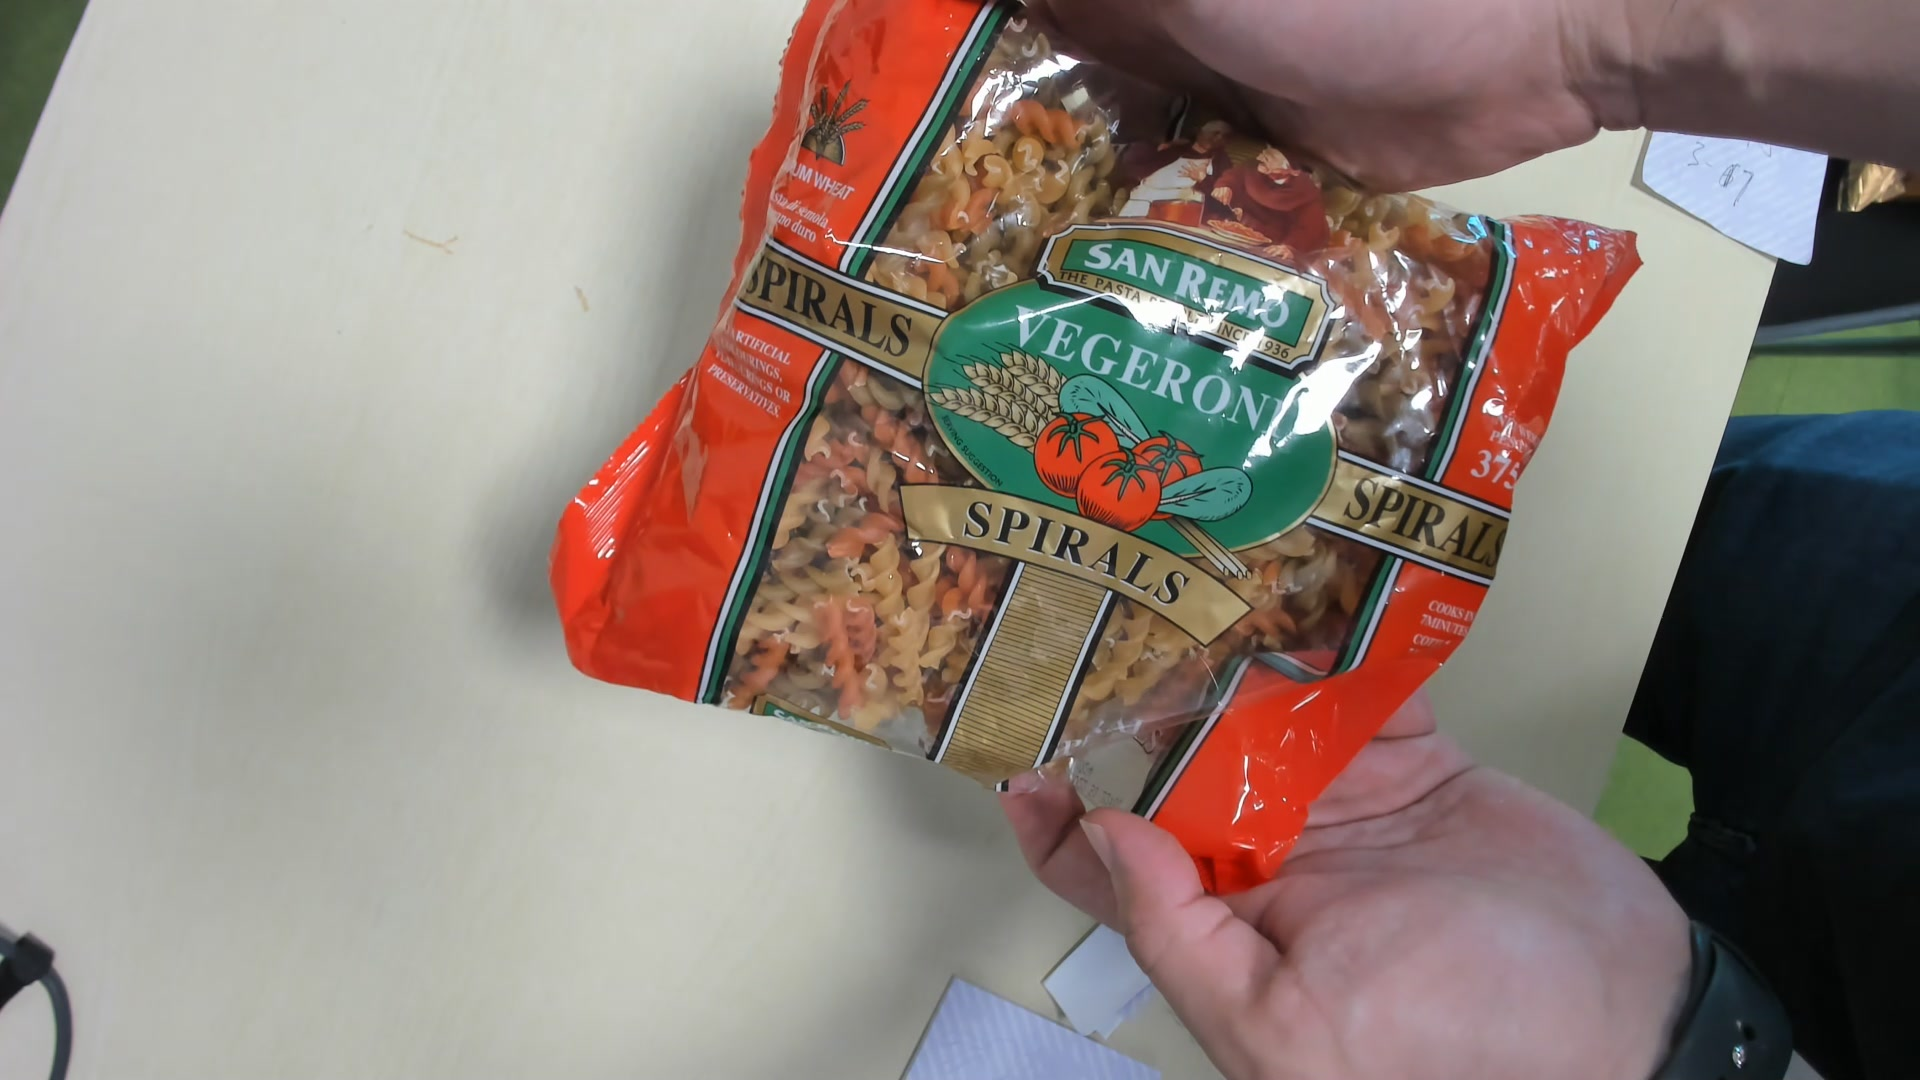Pasta_400-499g_Halal_NonHealthy: (549, 5, 1621, 887)
